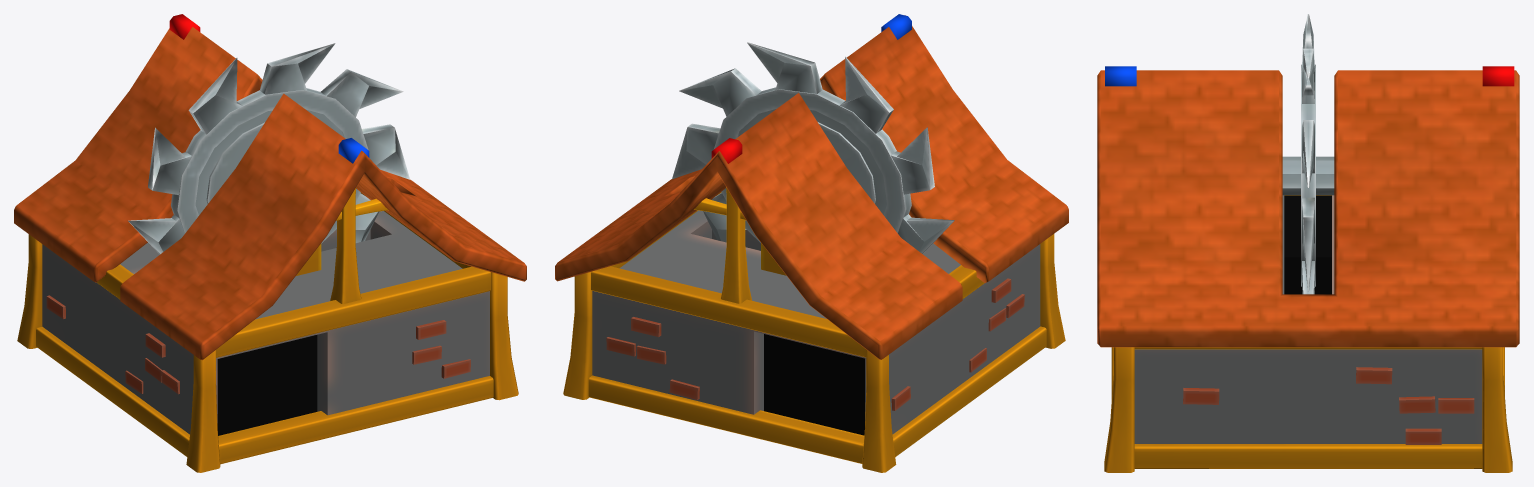
File: Balista_Tartak_Kamieniolom.fbx
3 renders of one model, left to right at view 1: azimuth 30°, elevation 25°; view 2: azimuth 150°, elevation 25°; view 3: azimuth 270°, elevation 25°, orthographic. The views are drawn at different scales.
Parts seen in each view (by area): view 1: Cylinder.027_Baked, Cylinder.021_Baked; view 2: Cylinder.027_Baked, Cylinder.021_Baked; view 3: Cylinder.027_Baked, Cylinder.021_Baked.
Part boxes in pixels (x1=…): Cylinder.027_Baked: x1=14, y1=14, x2=526, y2=472; Cylinder.021_Baked: x1=128, y1=43, x2=410, y2=254; Cylinder.027_Baked: x1=555, y1=14, x2=1068, y2=472; Cylinder.021_Baked: x1=672, y1=42, x2=954, y2=253; Cylinder.027_Baked: x1=1097, y1=66, x2=1519, y2=472; Cylinder.021_Baked: x1=1282, y1=14, x2=1334, y2=294.
Size of the model in its own units: 199 by 185 by 199.
Materials: 1 (1 with a texture image).
